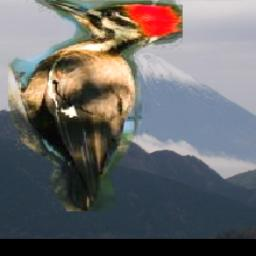Woodpecker: (3, 0, 184, 211)
